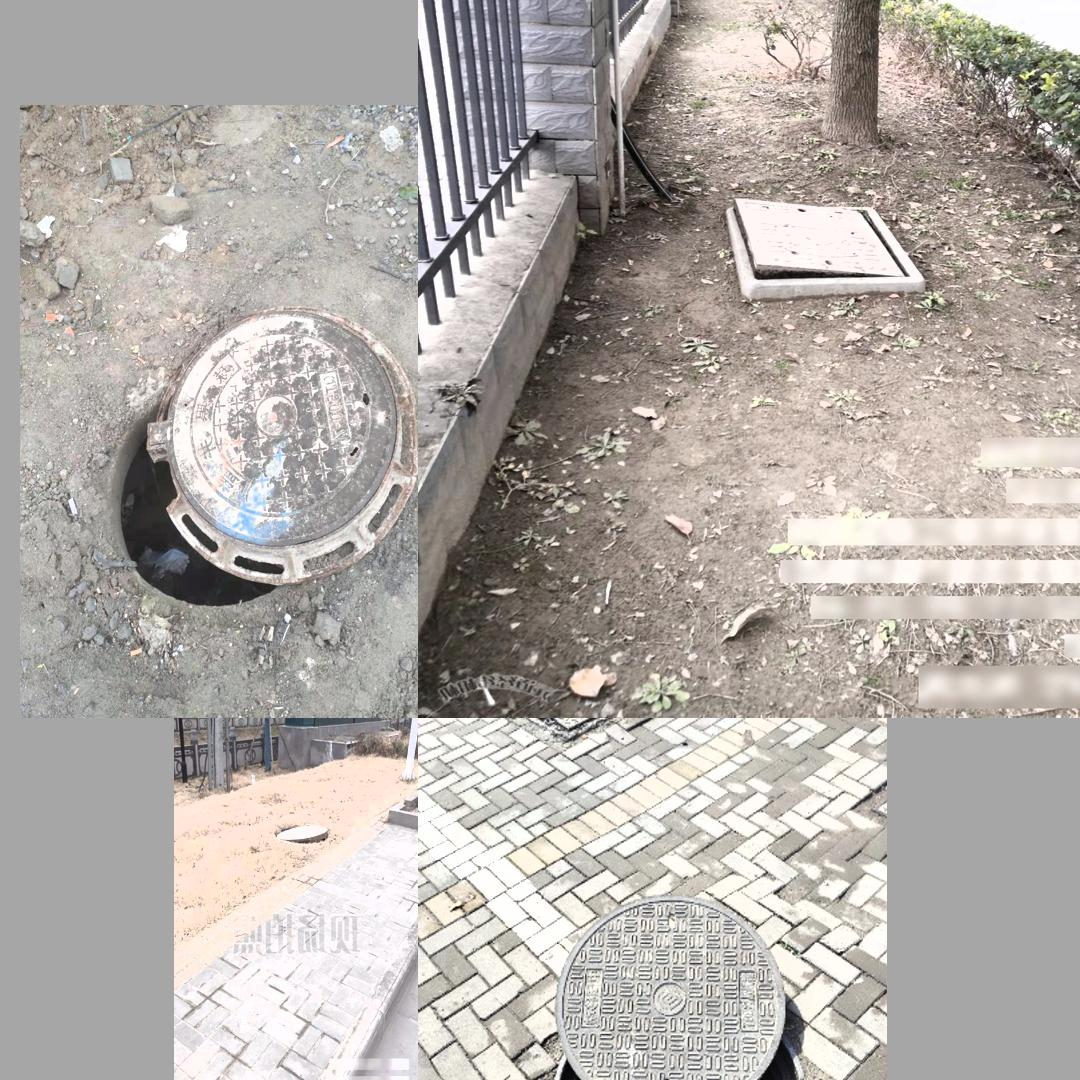uncovered: (110, 307, 413, 604), (538, 886, 809, 1080), (725, 192, 933, 304), (276, 822, 328, 844)
